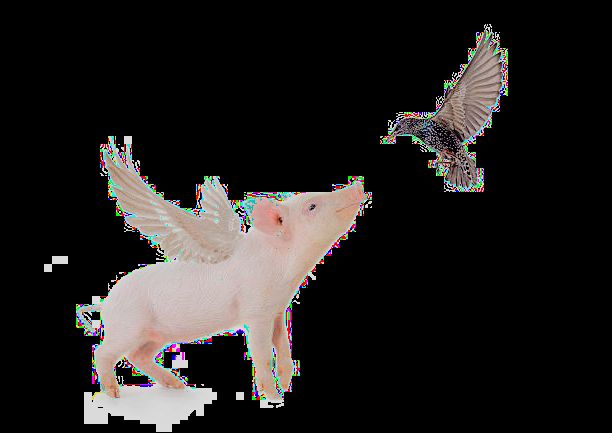Bird: (380, 21, 513, 199)
